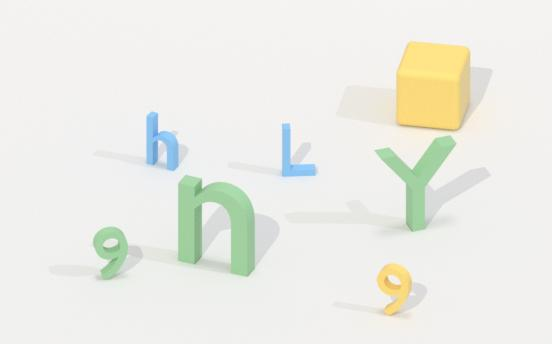9: (90, 225, 134, 281), (373, 263, 416, 318)
Y-hoa: (369, 133, 466, 232)
h: (142, 108, 184, 172)
hop: (389, 39, 478, 132)
l: (276, 119, 324, 181)
n: (169, 177, 264, 277)
